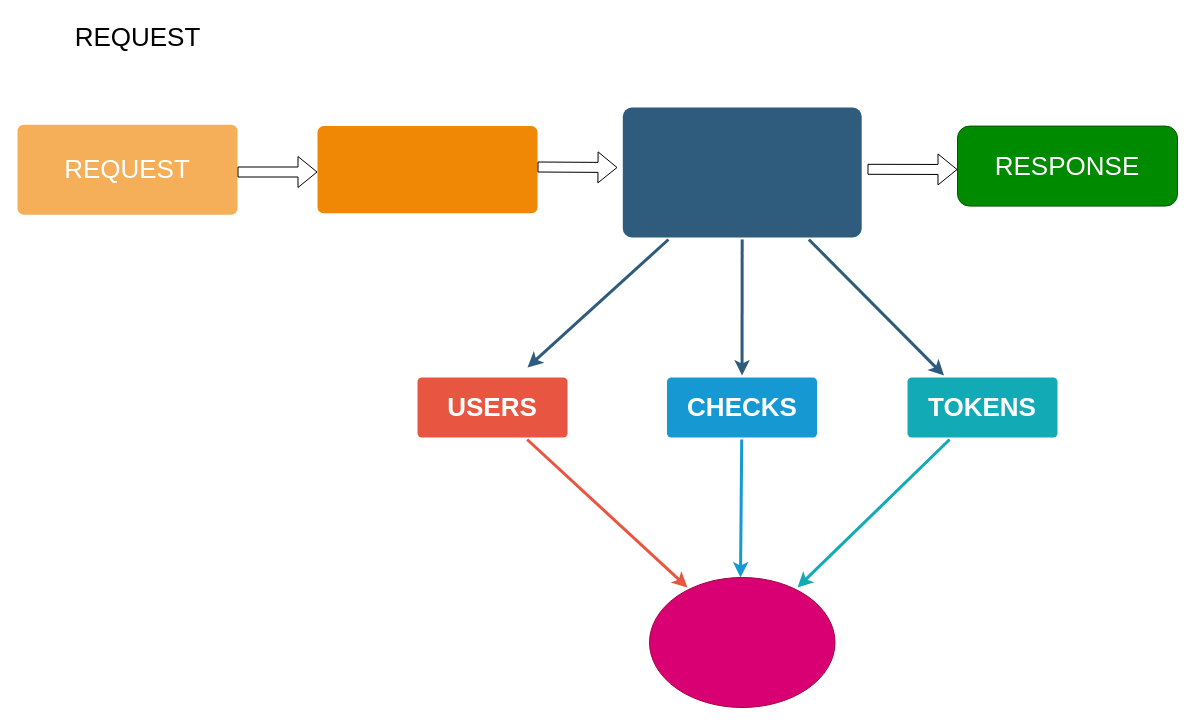
The diagram is 1195 pixels wide and 725 high, and some of its shapes have lost their labels. Each missing label, with the centre of its shape:
"DATA [FS functions]" belongs at point 741,642.
"HANDLERS" belongs at point 741,172.
"server.router" belongs at point 427,169.
